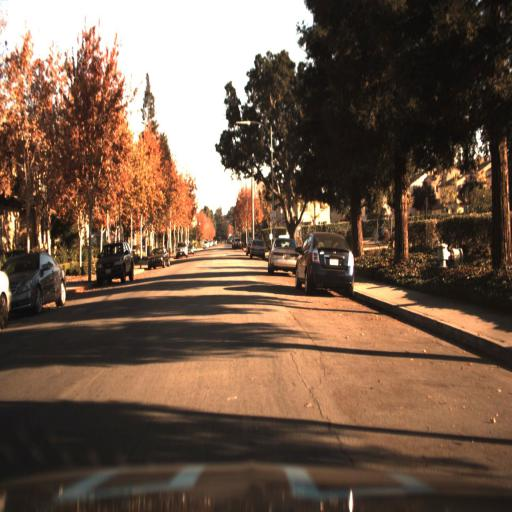car: (291, 224, 361, 304), (290, 221, 360, 294), (0, 250, 68, 315), (88, 234, 140, 294), (94, 236, 136, 288), (266, 237, 296, 282), (268, 236, 298, 276), (146, 242, 173, 268), (250, 235, 266, 262)
